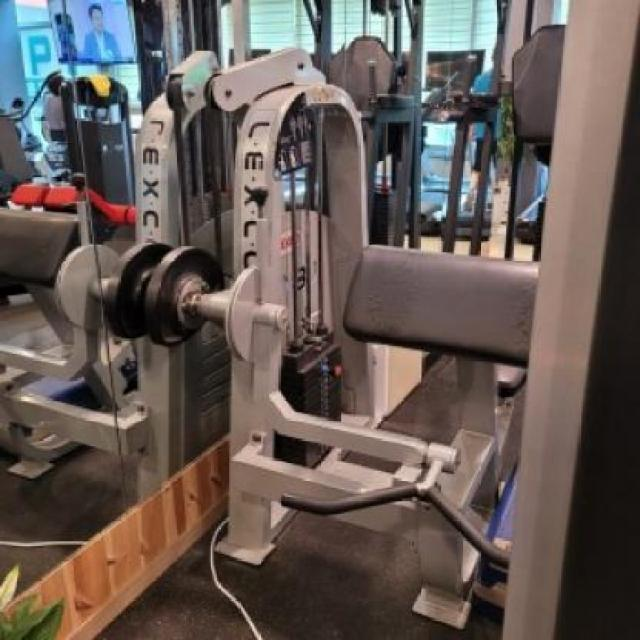arm curl machine: (145, 238, 509, 630)
